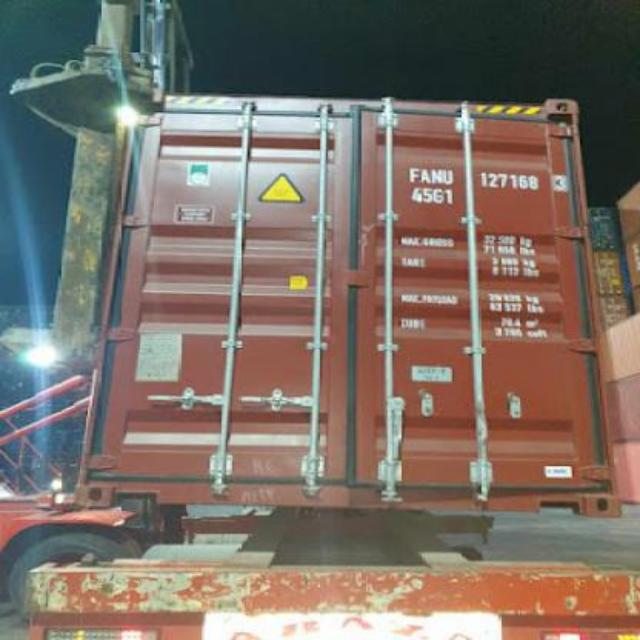1: (476, 172, 488, 188), (508, 176, 520, 188)
2: (486, 174, 498, 188)
3: (552, 177, 566, 190)
6: (518, 176, 528, 188)
7: (498, 172, 510, 188)
8: (528, 176, 542, 188)
A: (418, 168, 432, 182)
F: (408, 166, 420, 184)
N: (428, 168, 444, 184)
U: (444, 170, 454, 183)
